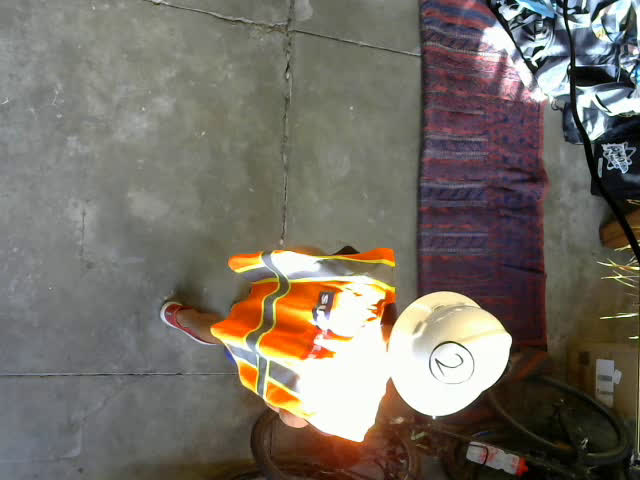two: (430, 341, 475, 386)
